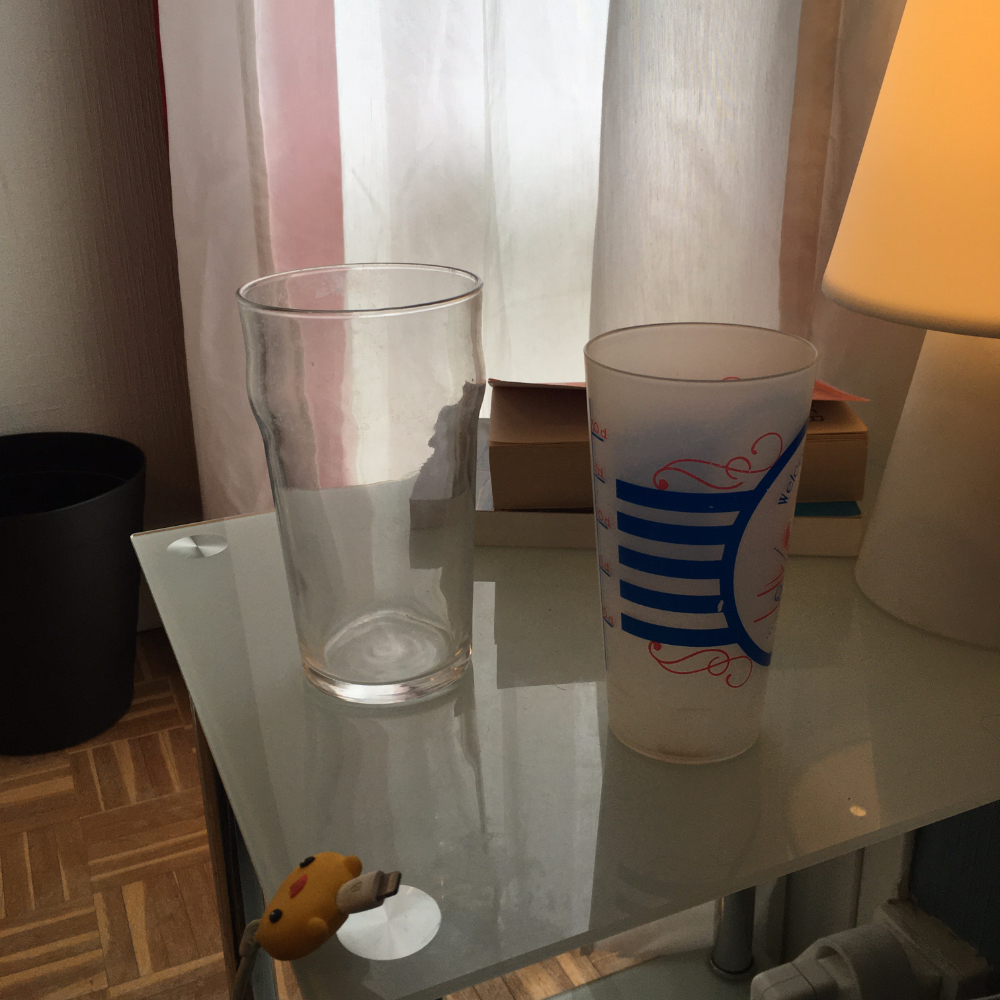ecocup: (584, 322, 819, 765)
